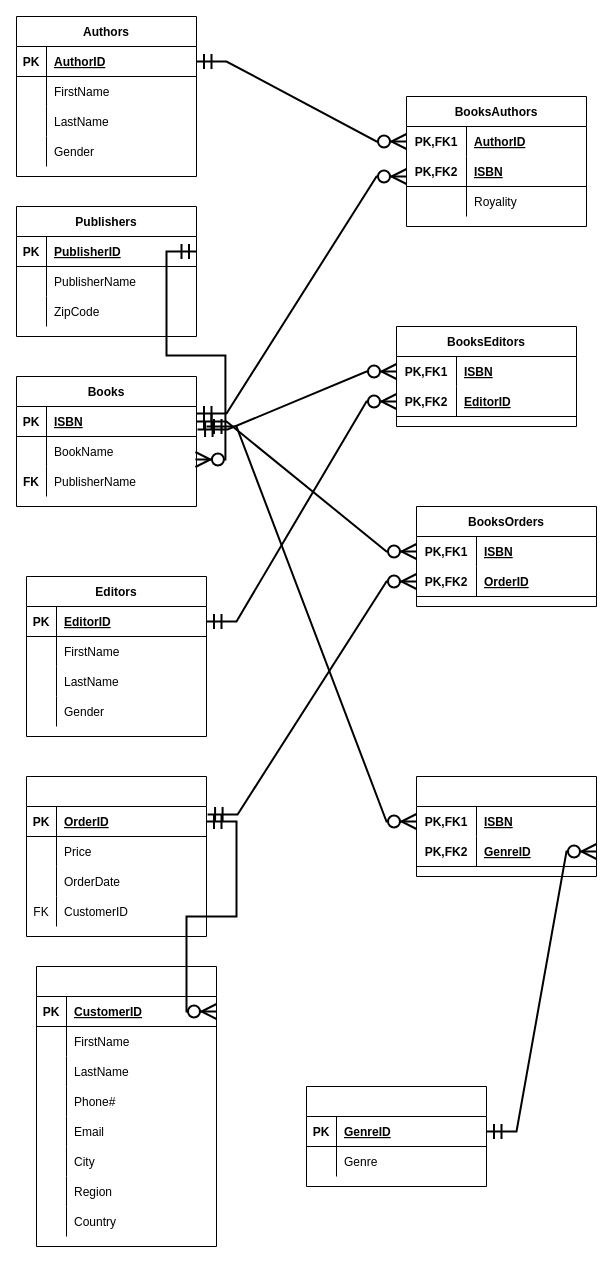
This 613x1263 diagram has some shape labels left out. The box of each missing label's shape, as (x1, y1, x2, y2) in pixels:
BooksGenres: (416, 776, 596, 876)
Customers: (36, 966, 216, 1246)
Genres: (306, 1086, 486, 1186)
Orders: (26, 776, 206, 936)
